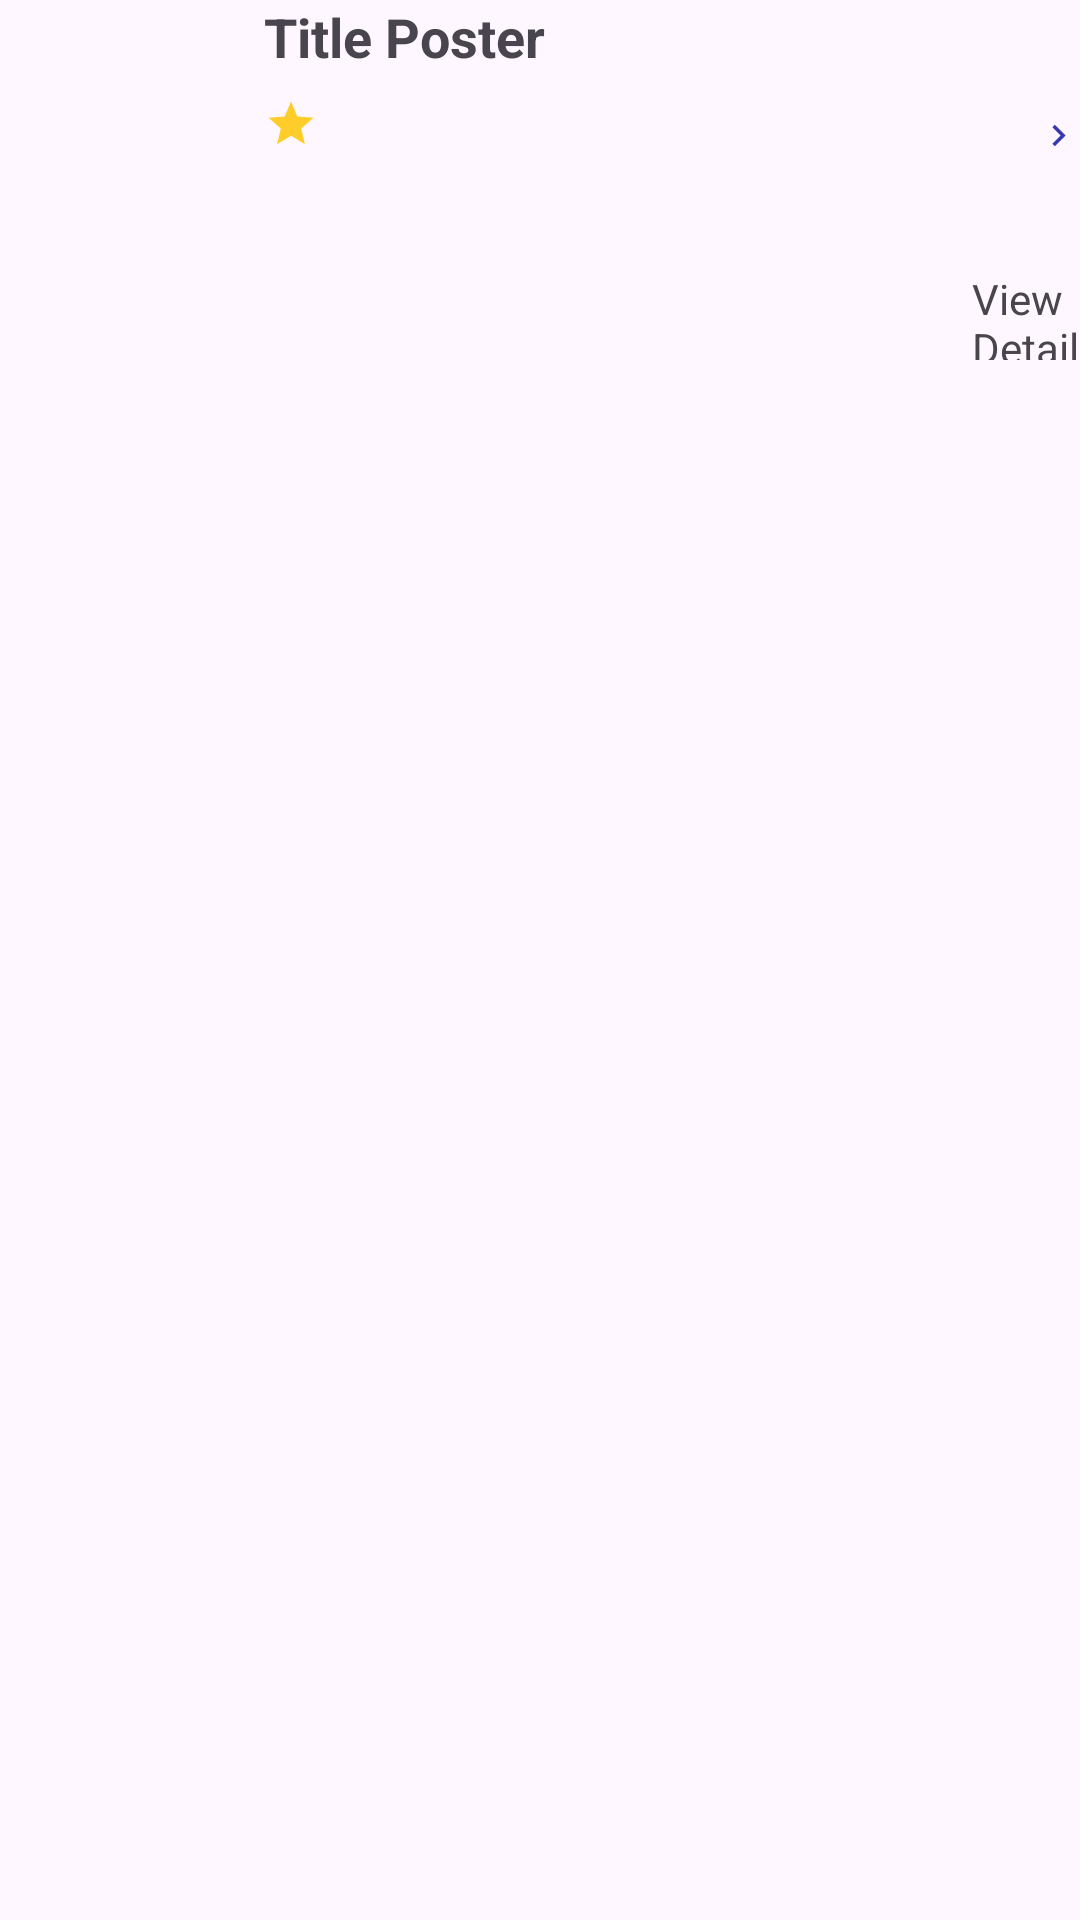

Where to tap for icons on this 1080w x 1920h app screen, as [x,y]:
star: [291,123]
